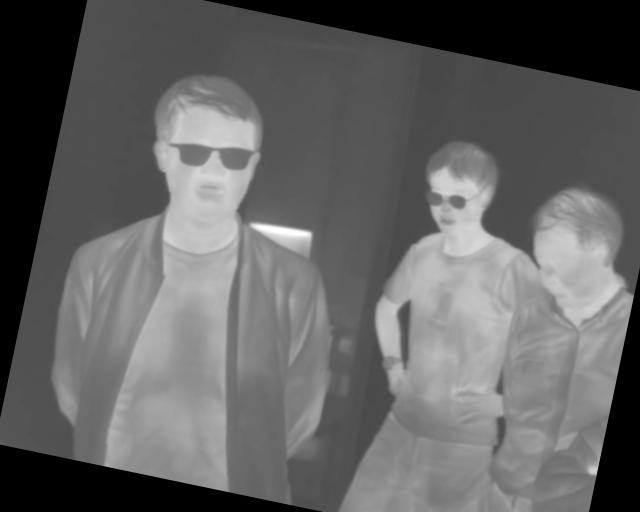face: (134, 61, 275, 233), (516, 175, 633, 320), (412, 132, 507, 243)
